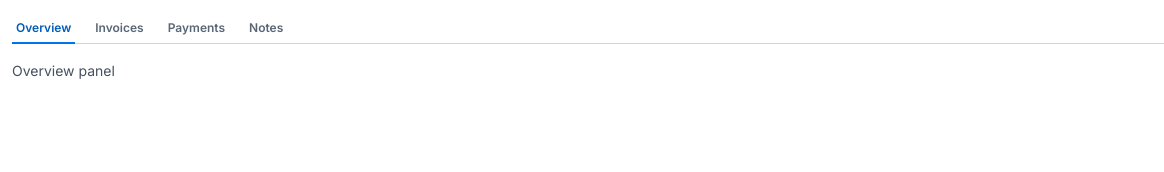
Scenario: Tabs › points aria-controls only from the selected tab, at a panel that exists
Click the tab "Notes" at x=266, y=28, box [245,12,287,44]
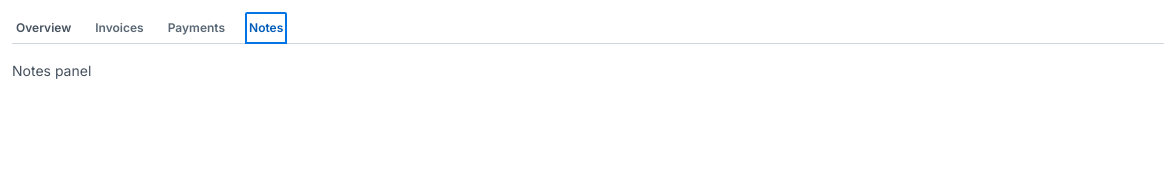
Check: the panel "Notes" reads "Notes panel", box [12,62,91,79]
